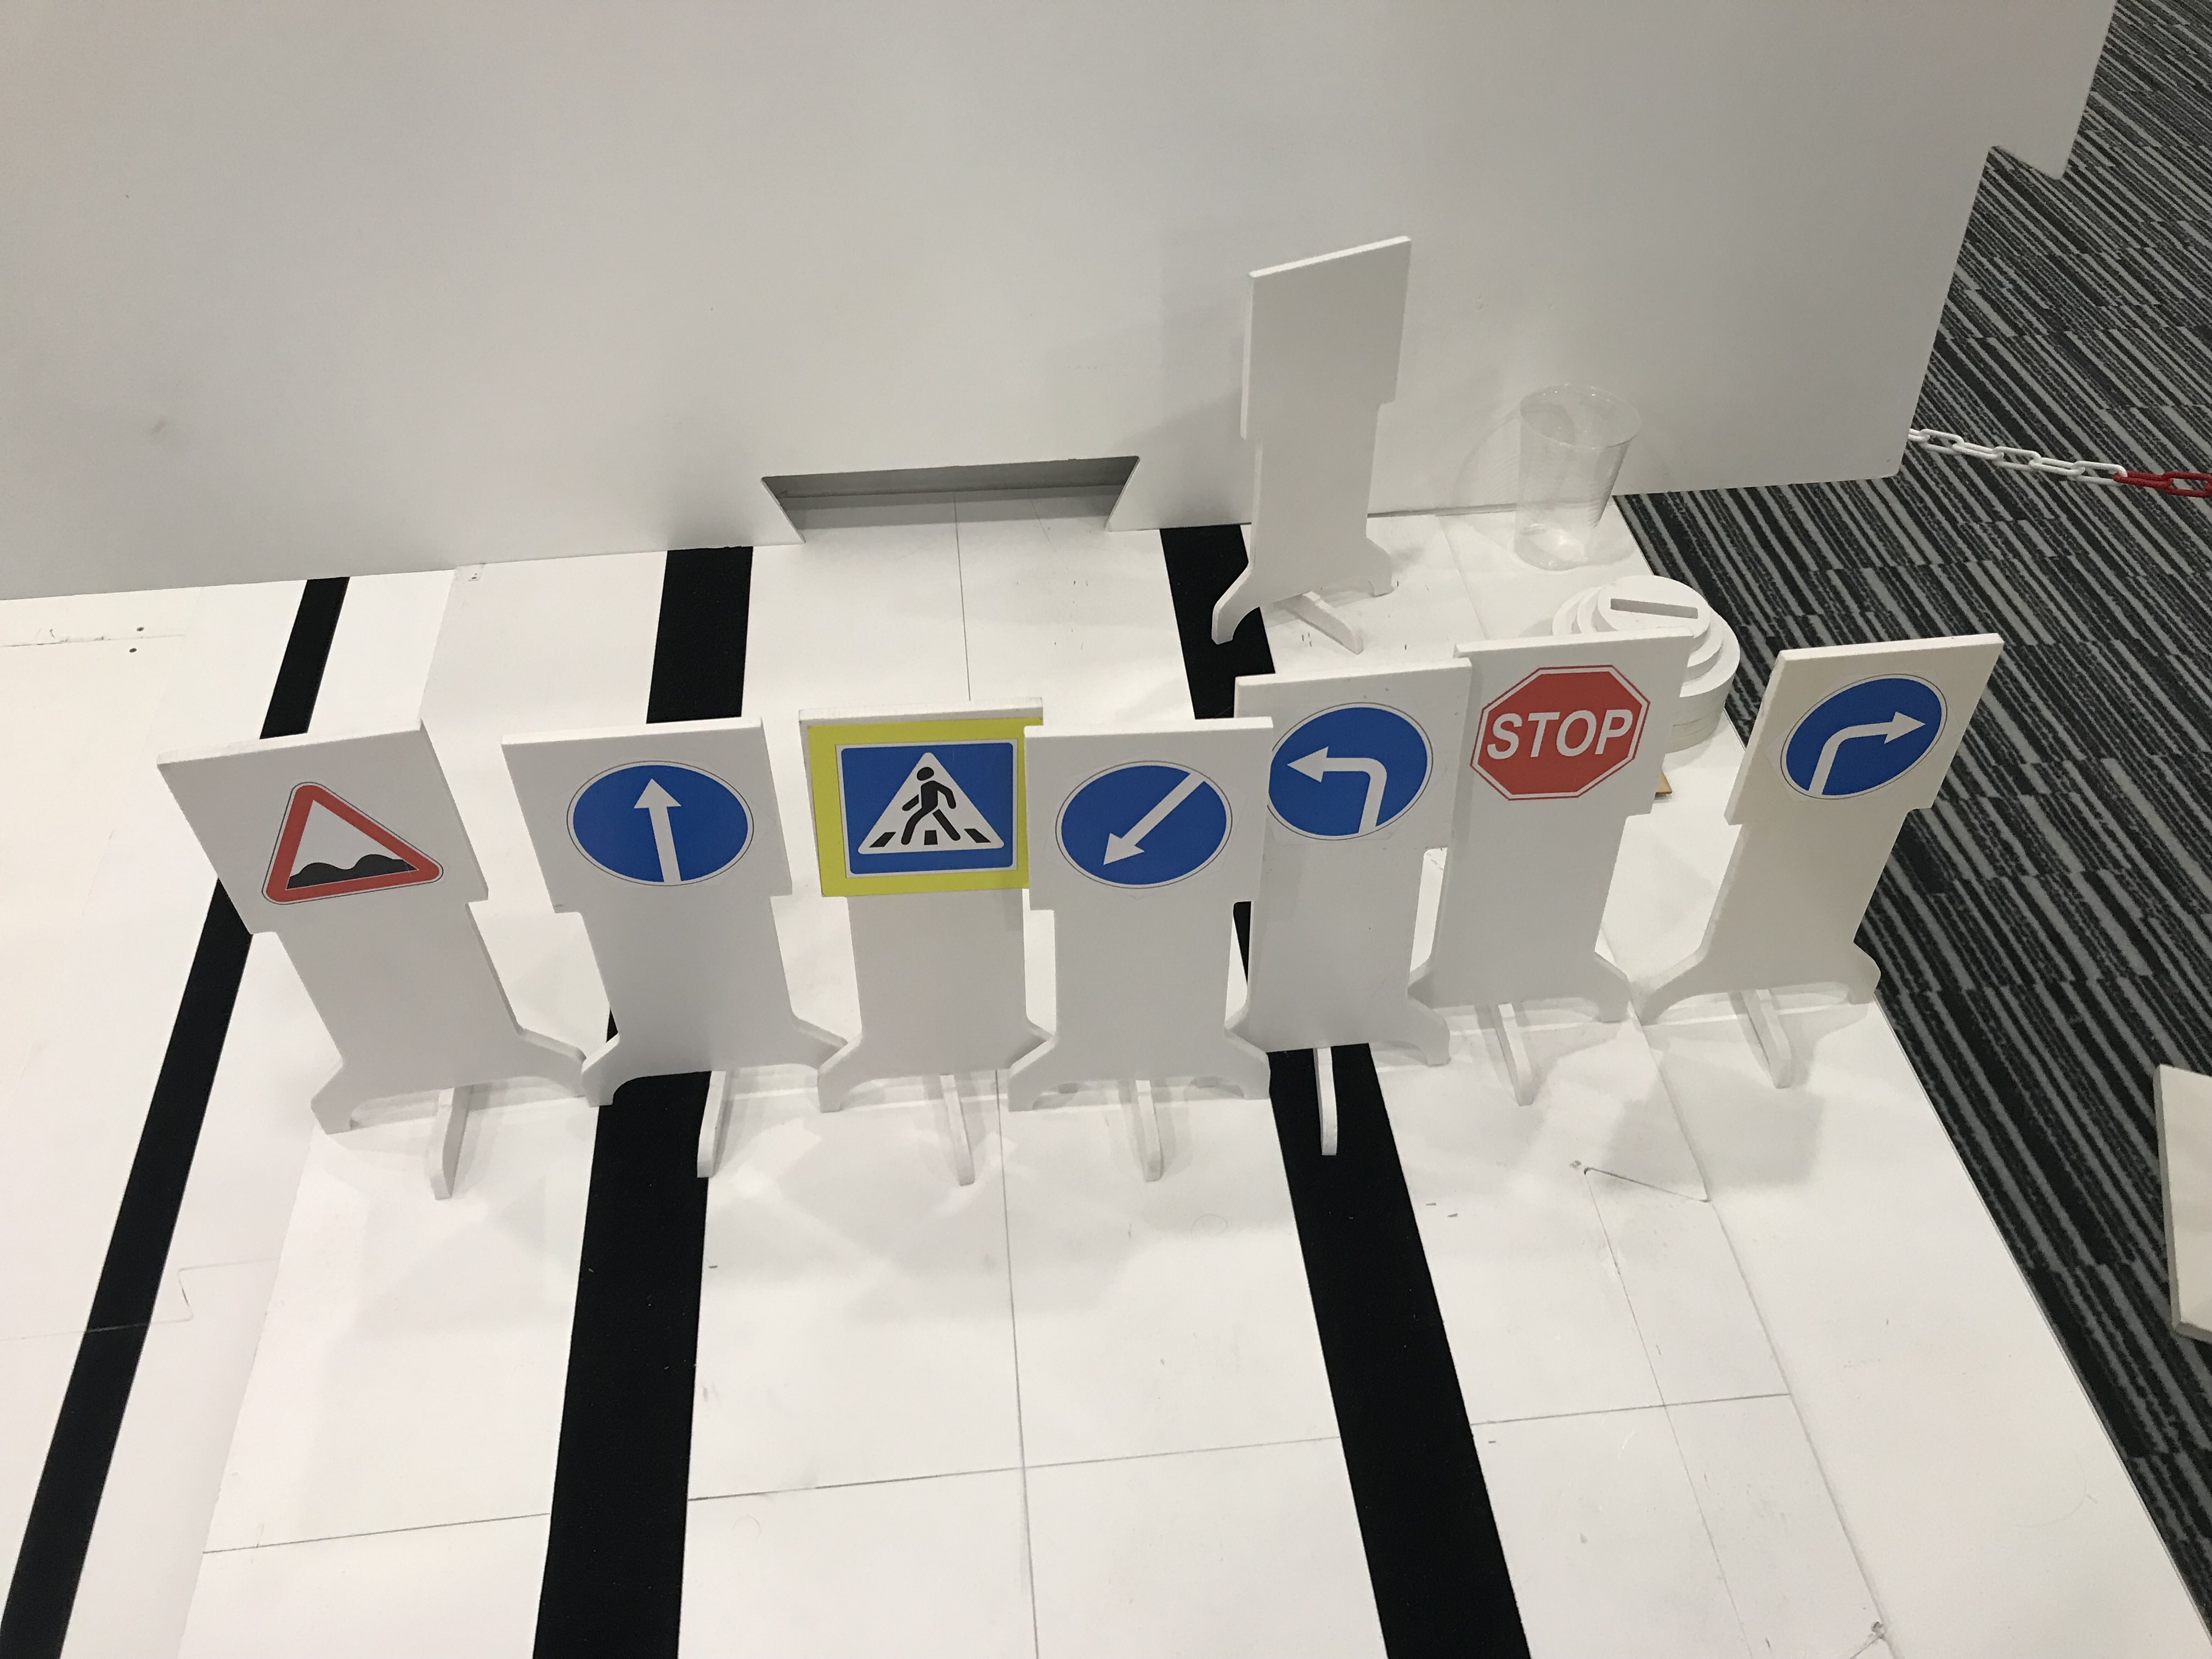Left: (1271, 704, 1433, 842)
Nerov: (263, 779, 442, 901)
Right: (1782, 678, 1944, 795)
Stop: (1472, 660, 1649, 807)
forw: (557, 760, 758, 887)
pesh: (812, 723, 1019, 884)
prep: (1050, 760, 1233, 887)
